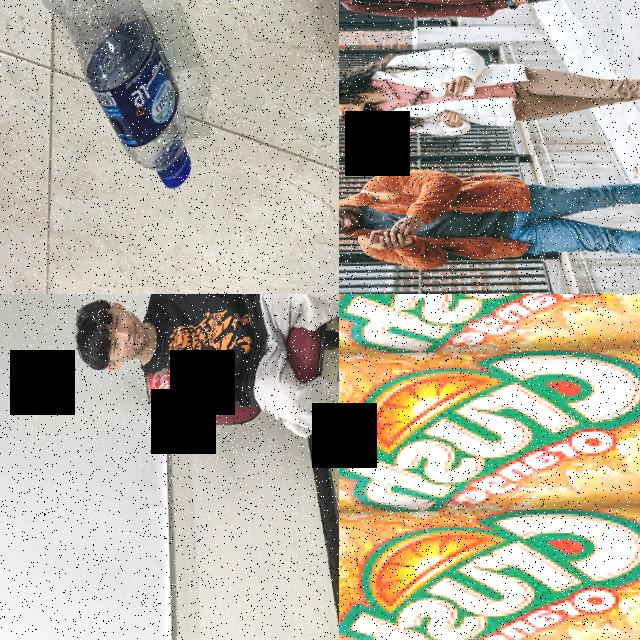bottle: (11, 0, 195, 209)
can: (339, 344, 640, 514), (339, 505, 640, 640), (339, 294, 640, 358), (144, 363, 207, 402)
cup: (430, 78, 475, 98)
